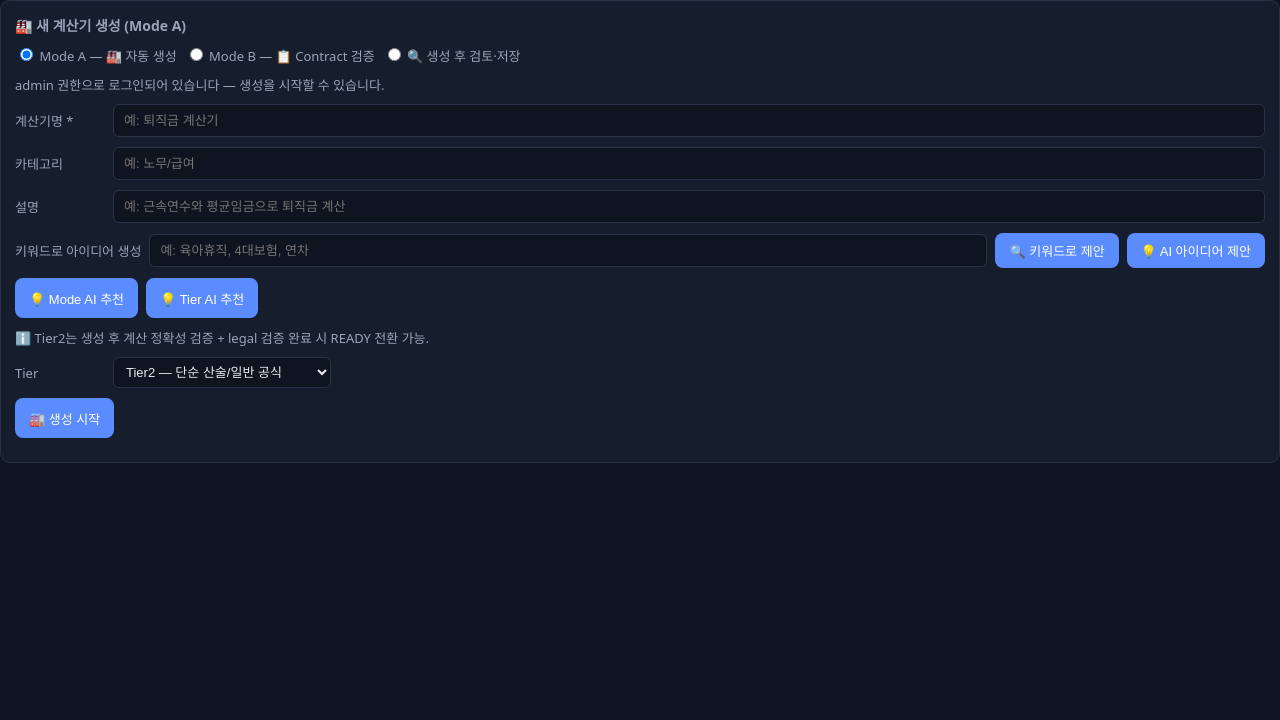
Test: Mode A 생성 후 검토·저장 › slug conflict disables save
The width and height of the screenshot is (1280, 720).
Click the radio button labelled "🔍 생성 후 검토·저장".
click(394, 54)  # box [388, 48, 401, 61]
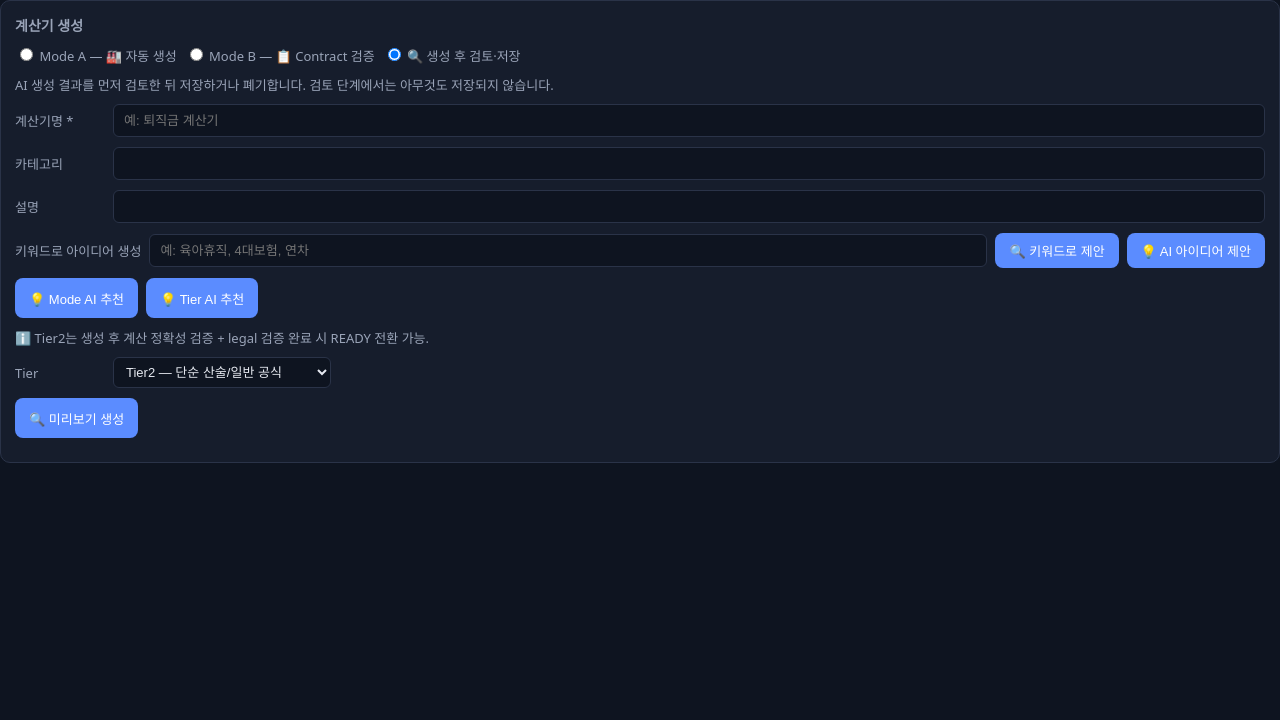
Type "퇴직금 계산기" into the field labelled "계산기명 *".
click(689, 120); type("퇴직금 계산기")  # box [113, 104, 1265, 137]
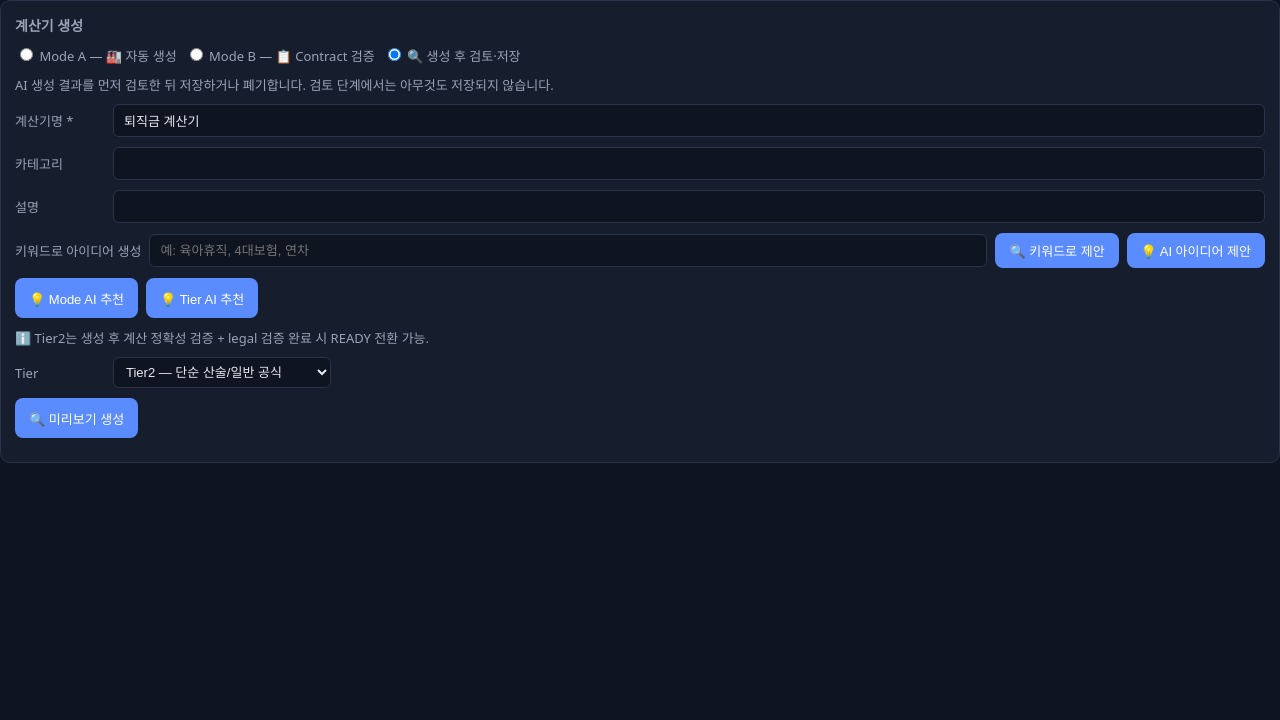
Click the button "🔍 미리보기 생성".
click(77, 418)  # box [15, 398, 138, 438]
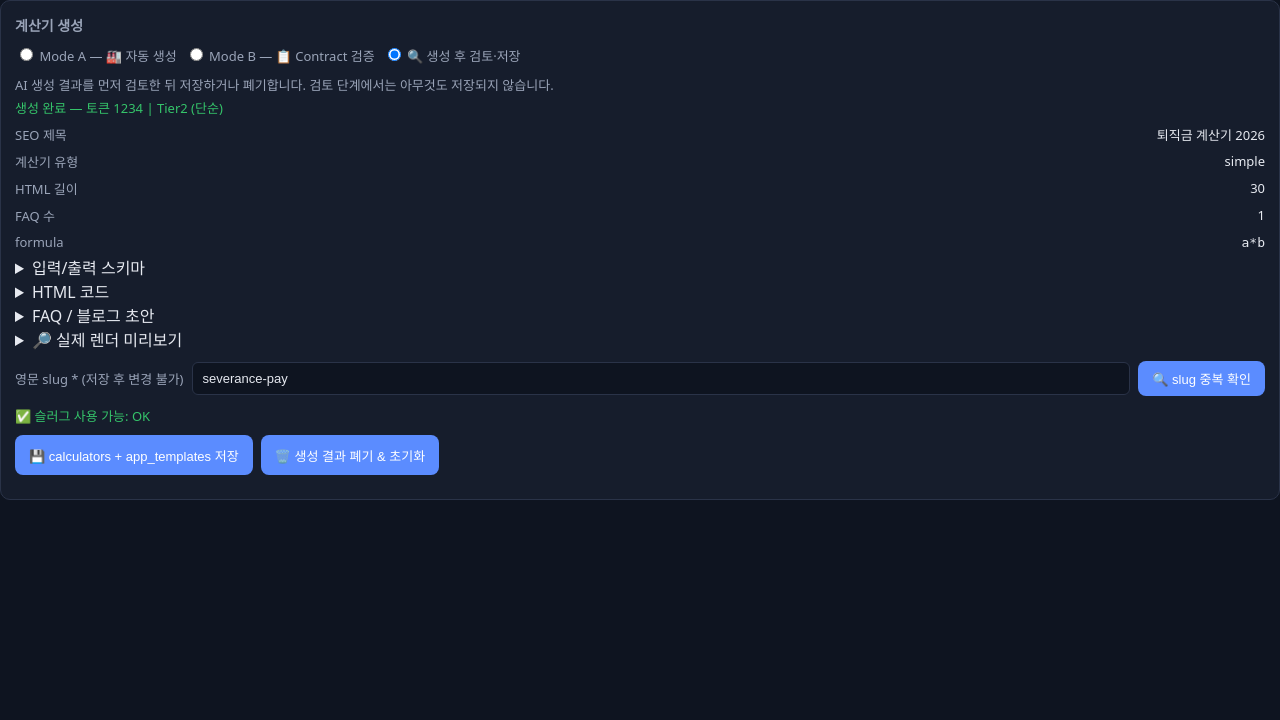
Check: the element with test id "mode-a-preview" is shown, box [15, 98, 1265, 475]
Replace the text in the field labelled "영문 slug * (저장 후 변경 불가)" with "taken" at coordinates (661, 378), box [192, 362, 1130, 395]
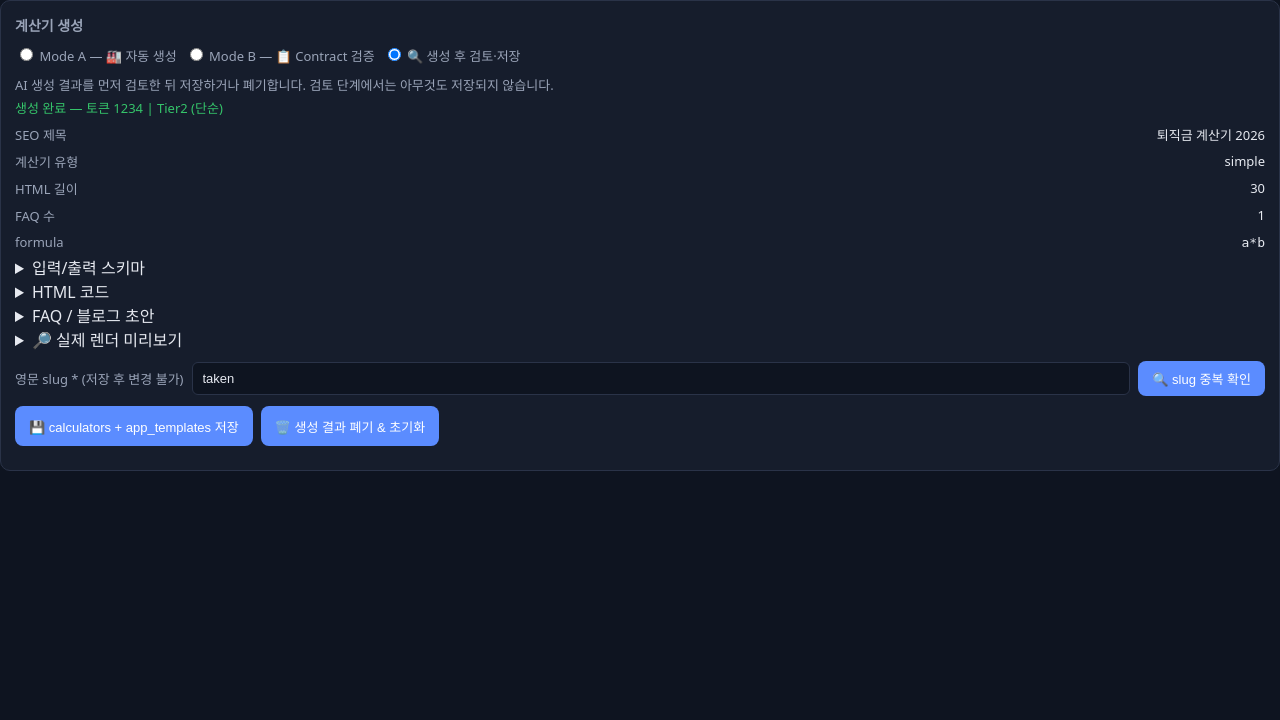
Click the button "🔍 slug 중복 확인".
click(1202, 378)  # box [1138, 361, 1265, 396]
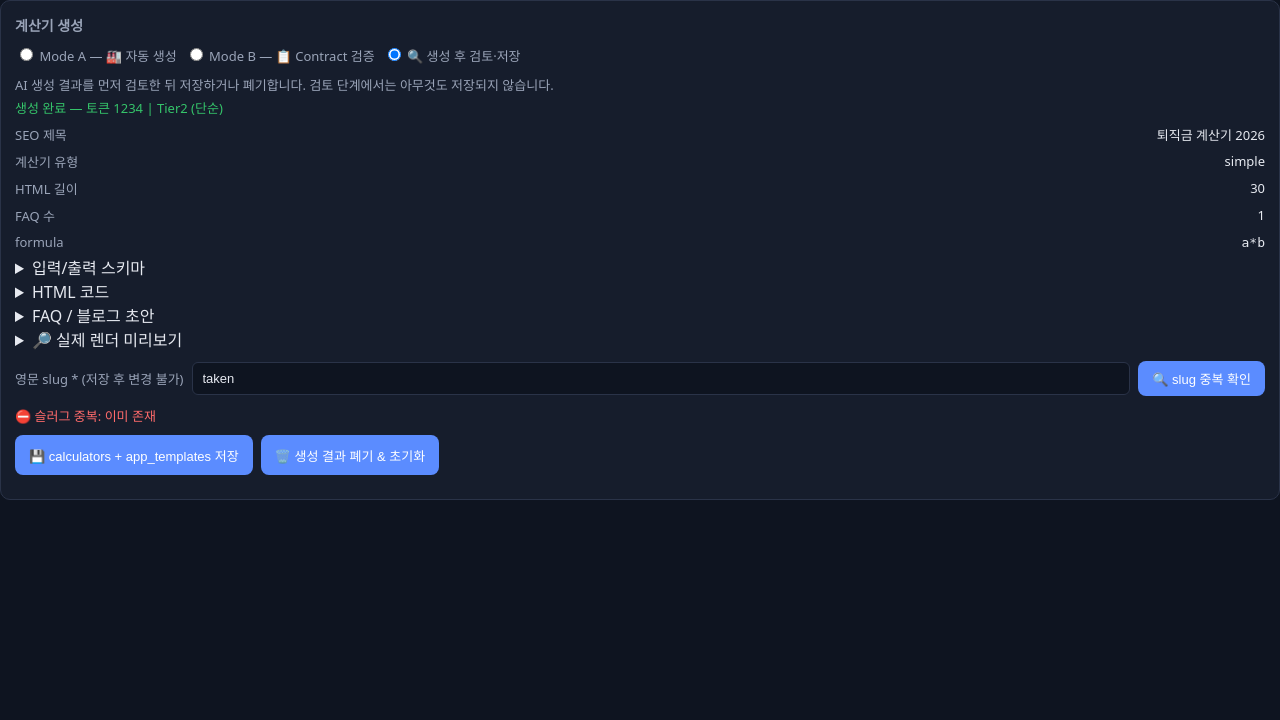
Check: the text "⛔ 슬러그 중복: 이미 존재" is shown, box [15, 407, 156, 425]
Check: the button "💾 calculators + app_templates 저장" is disabled, box [15, 435, 253, 475]
